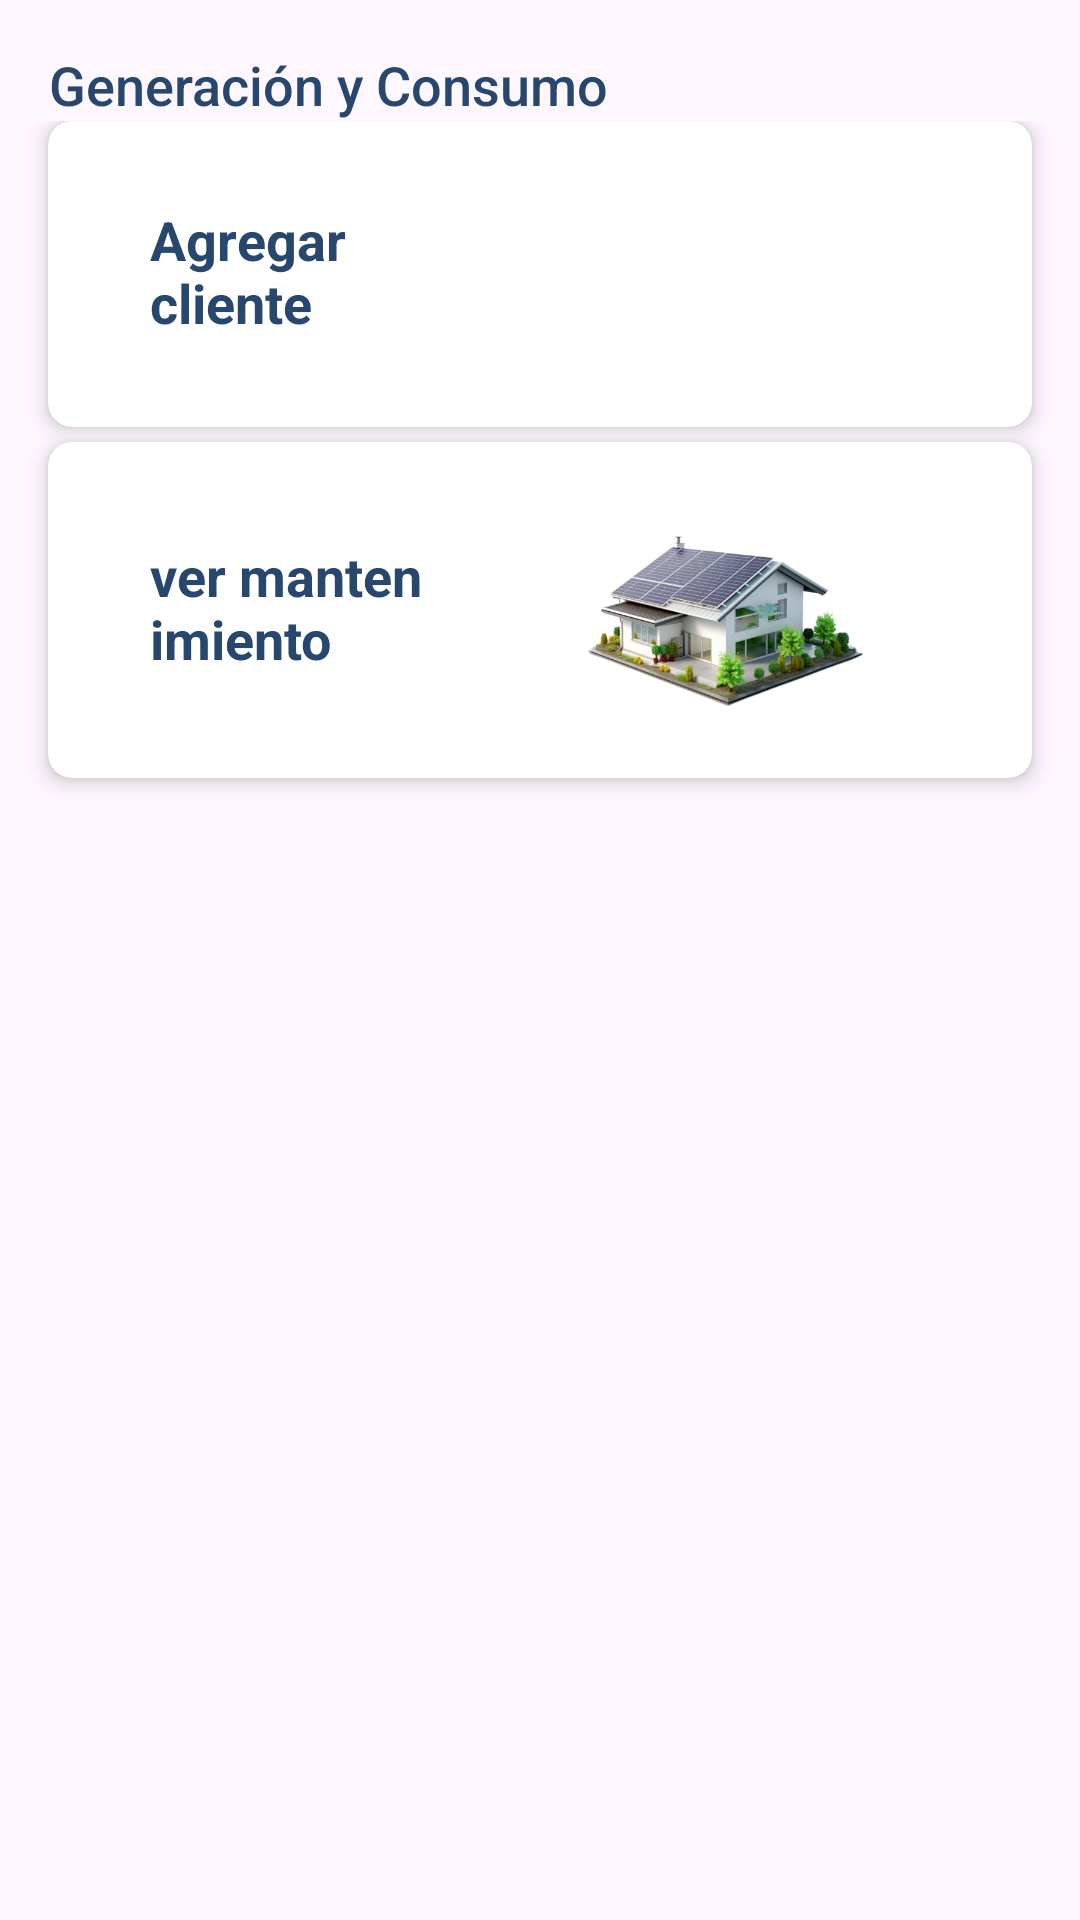

Icons on this 1080 × 1920 Android screen, each with its box as (x1, y1, x2, y2):
casa panel: (588, 536, 863, 706)
